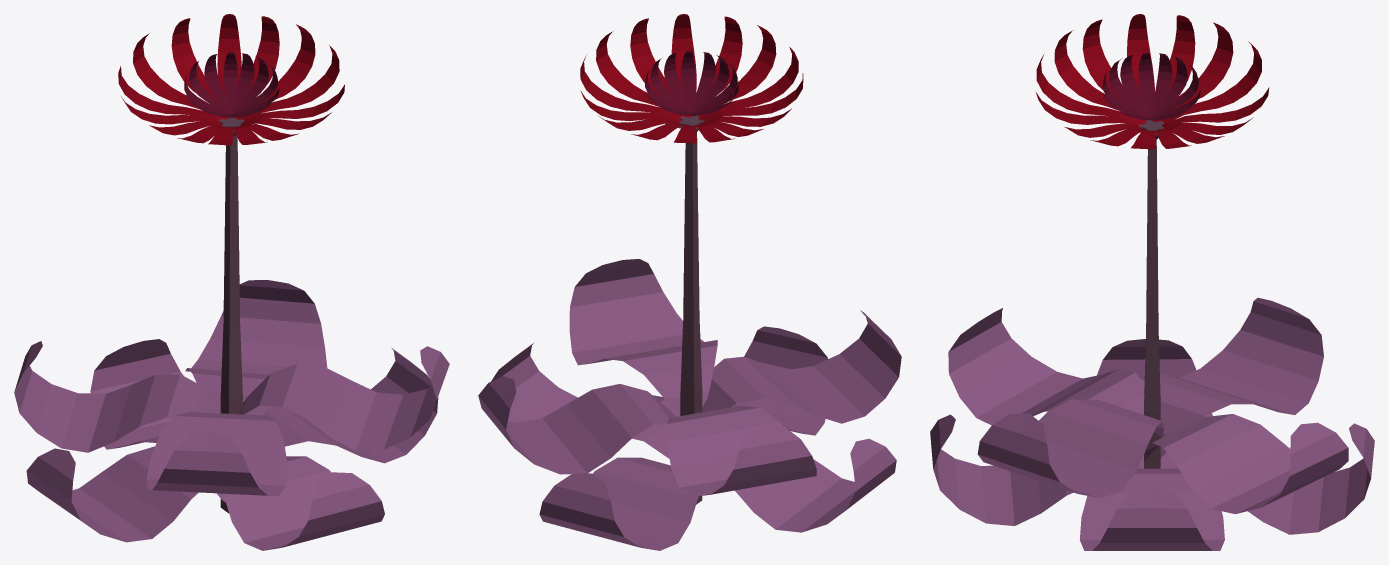
File: Special Flower.fbx
The picture shows the model from 3 angles, left to right: view 1: azimuth 30°, elevation 25°; view 2: azimuth 150°, elevation 25°; view 3: azimuth 270°, elevation 25°; orthographic projection. The views are drawn at different scales.
Visible parts, largest first — view 1: Flower; view 2: Flower; view 3: Flower.
Part boxes in pixels (<box>): Flower: <box>14,14,449,550</box>; Flower: <box>478,14,901,550</box>; Flower: <box>930,14,1374,550</box>.
Size of the model in its own units: 2.58 by 2.59 by 3.02.
